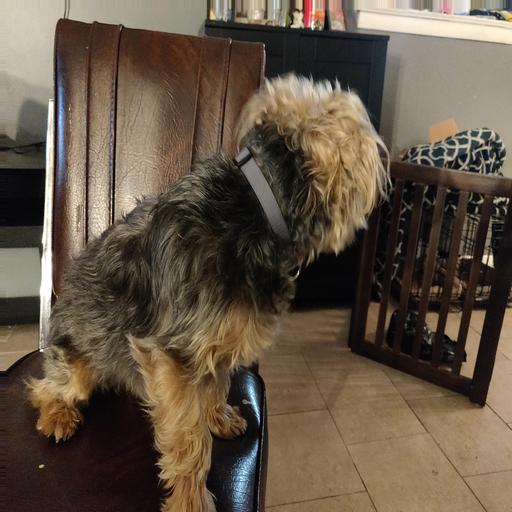dog: (101, 74, 410, 383)
